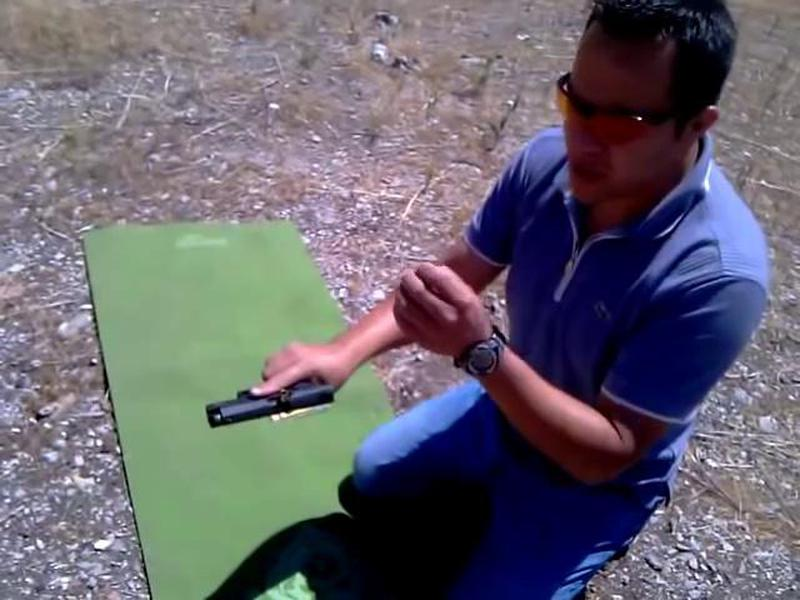Pistola: (190, 331, 366, 459)
